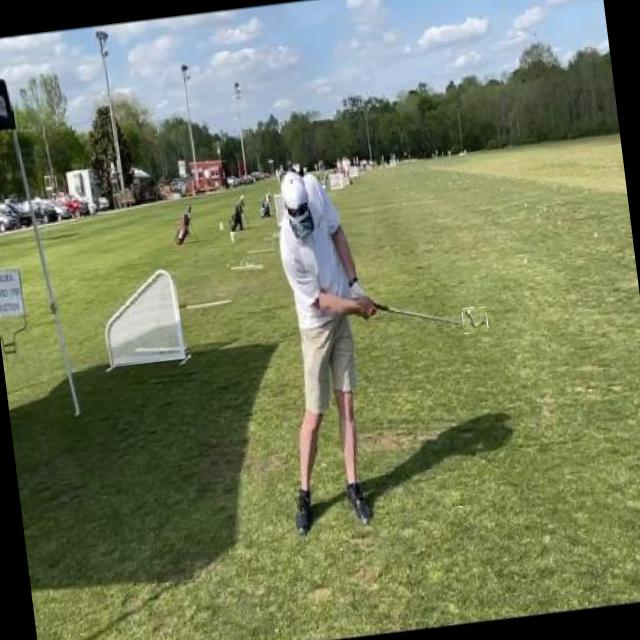club head: (462, 306, 488, 334)
